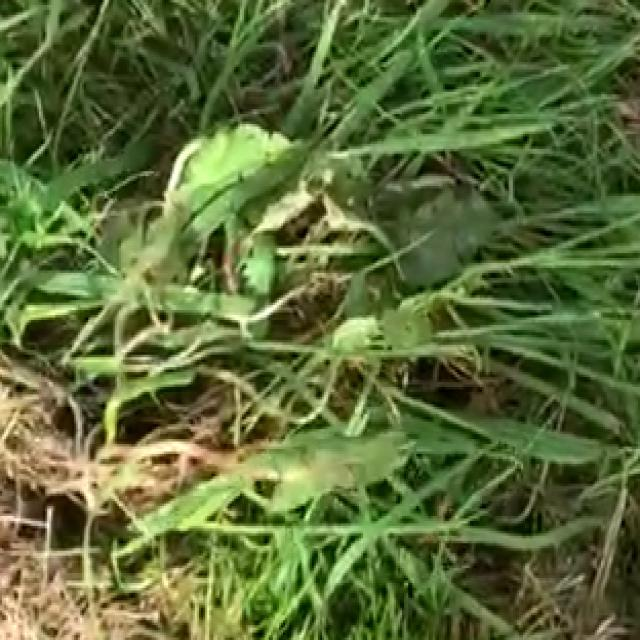organic waste: (92, 49, 496, 412)
